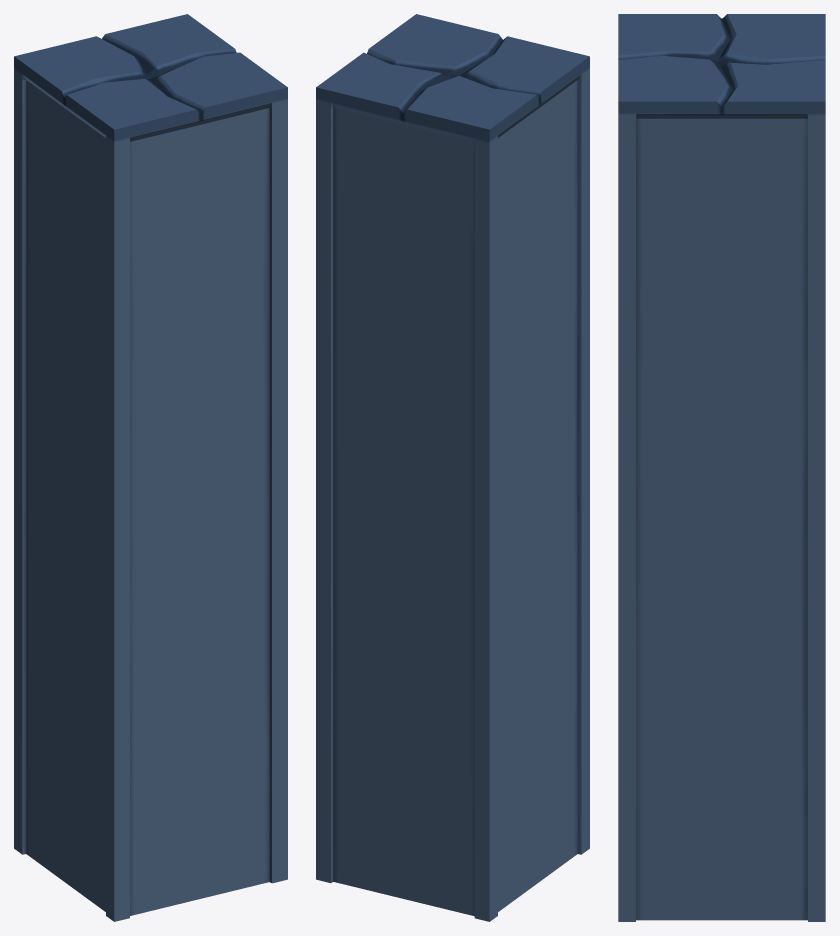
File: WallV3_20220505.obj
The picture shows the model from 3 angles, left to right: view 1: azimuth 30°, elevation 25°; view 2: azimuth 150°, elevation 25°; view 3: azimuth 270°, elevation 25°; orthographic projection. The views are drawn at different scales.
Parts seen in each view (by area): view 1: pCube1; view 2: pCube1; view 3: pCube1.
Part boxes in pixels (x1=…): pCube1: x1=14, y1=14, x2=287, y2=921; pCube1: x1=316, y1=14, x2=589, y2=921; pCube1: x1=618, y1=14, x2=825, y2=921.
Bounding box in the file's own units: 3 × 13.09 × 3.
